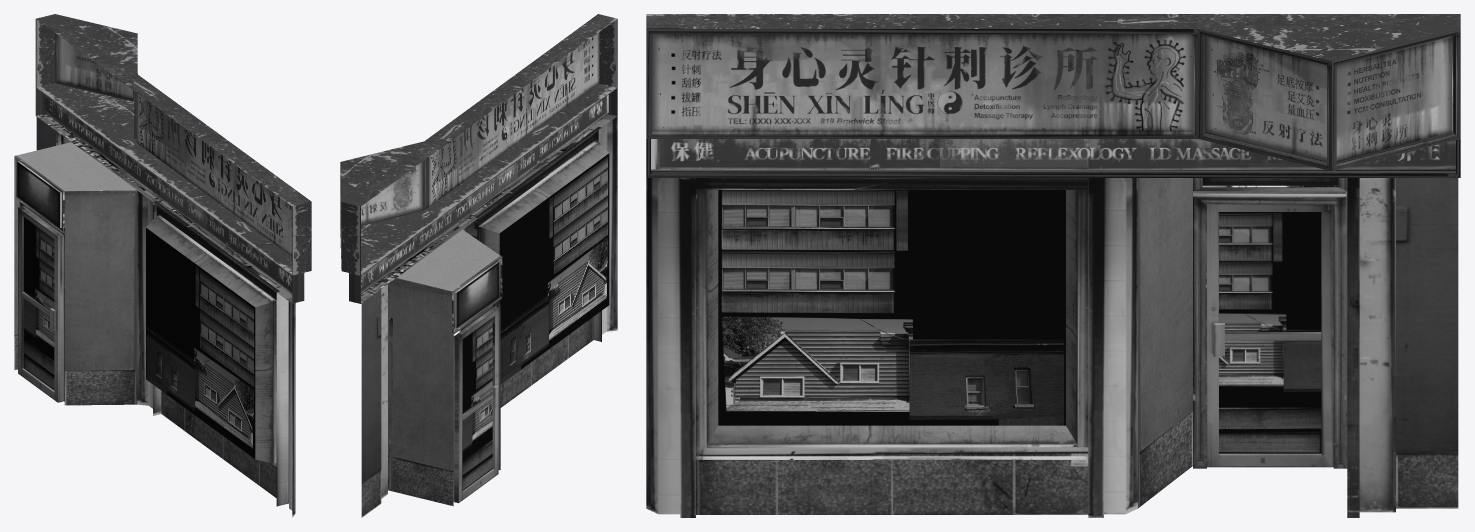
The model's file is chinatown_acupuncturist.fbx.
3 views of the same model, side by side, from view 1: azimuth 30°, elevation 25°; view 2: azimuth 150°, elevation 25°; view 3: azimuth 270°, elevation 25° (orthographic). The views are drawn at different scales.
Visible parts, largest first — view 1: chinatown_acupuncture, acupuncturist_windows, acupuncturist_door; view 2: chinatown_acupuncture, acupuncturist_windows, acupuncturist_door; view 3: chinatown_acupuncture, acupuncturist_windows, acupuncturist_door.
Boxes of the visible parts, x1,y1,x2,y2 form: chinatown_acupuncture: [14, 14, 311, 517]; acupuncturist_windows: [24, 217, 255, 458]; acupuncturist_door: [18, 206, 61, 402]; chinatown_acupuncture: [340, 14, 617, 517]; acupuncturist_windows: [462, 153, 609, 490]; acupuncturist_door: [454, 307, 498, 503]; chinatown_acupuncture: [646, 14, 1460, 517]; acupuncturist_windows: [718, 190, 1321, 453]; acupuncturist_door: [1207, 204, 1333, 467].
Size of the model in its own units: 218 by 535 by 799.
